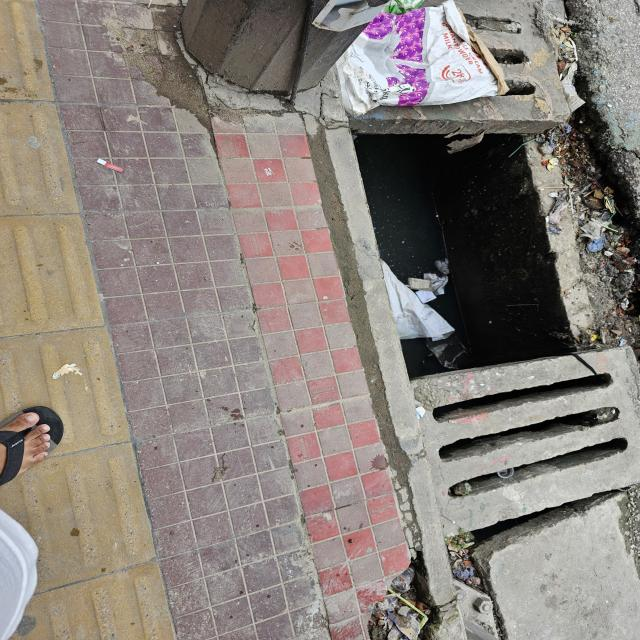drain_inlet: (352, 119, 592, 382)
